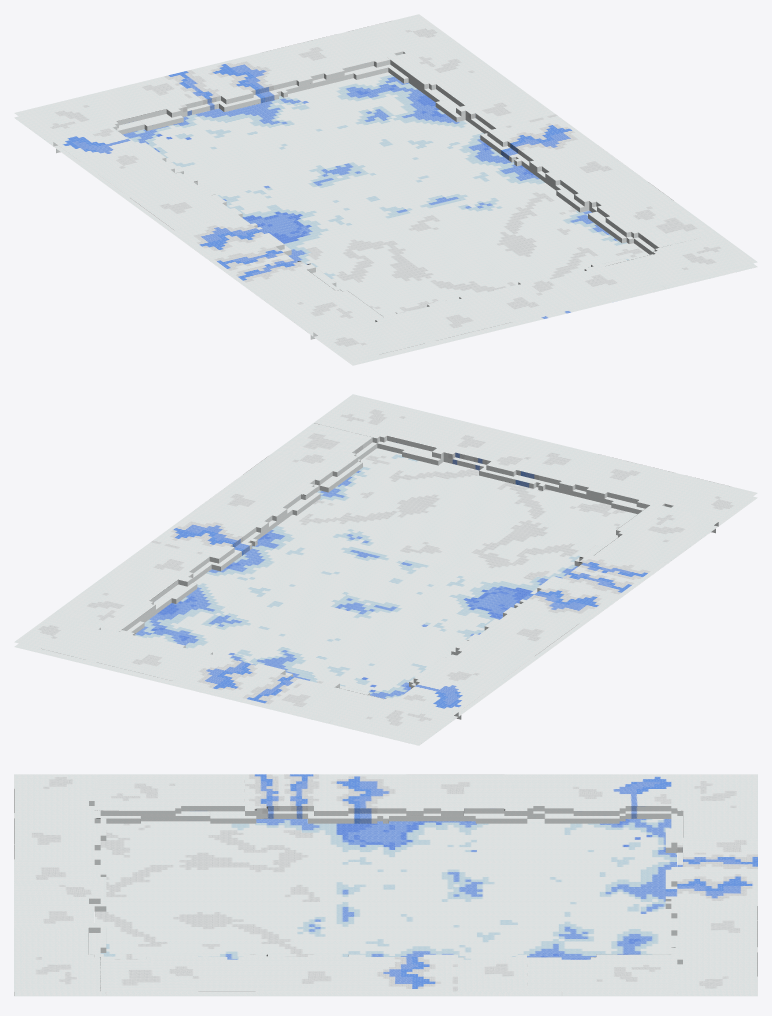
The model's file is Map_snow.fbx.
3 renders of one model, top to bottom at view 1: azimuth 30°, elevation 25°; view 2: azimuth 150°, elevation 25°; view 3: azimuth 270°, elevation 25°, orthographic. The views are drawn at different scales.
Parts seen in each view (by area): view 1: lineout_snow_mesh, map_snow_mesh; view 2: lineout_snow_mesh, map_snow_mesh; view 3: lineout_snow_mesh, map_snow_mesh.
Part boxes in pixels (x1=…): lineout_snow_mesh: x1=14, y1=14, x2=757, y2=365; map_snow_mesh: x1=122, y1=72, x2=649, y2=315; lineout_snow_mesh: x1=14, y1=394, x2=757, y2=745; map_snow_mesh: x1=135, y1=448, x2=637, y2=698; lineout_snow_mesh: x1=14, y1=774, x2=757, y2=996; map_snow_mesh: x1=95, y1=819, x2=676, y2=959.
Bounding box in the file's own units: 1016 × 22.85 × 1472.
